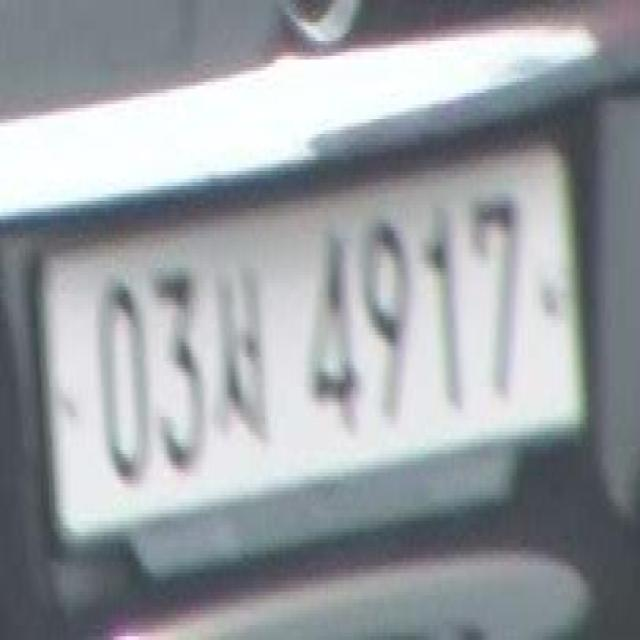illegal_plate: (38, 134, 591, 548)
